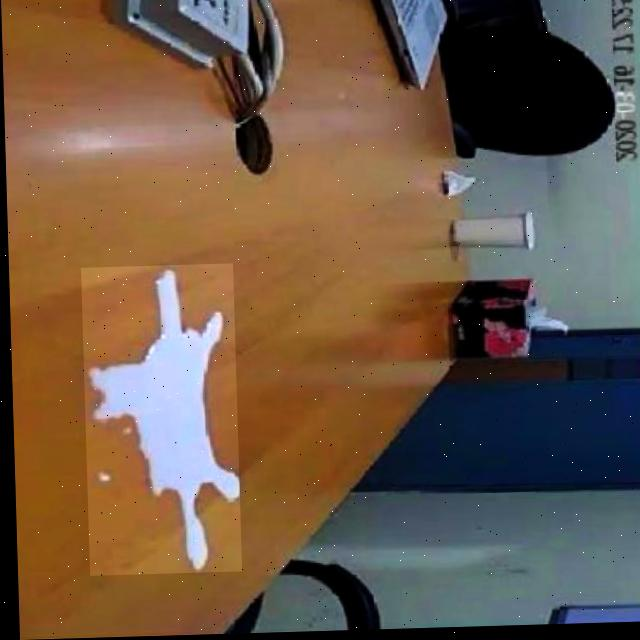spillage: (82, 267, 235, 573)
